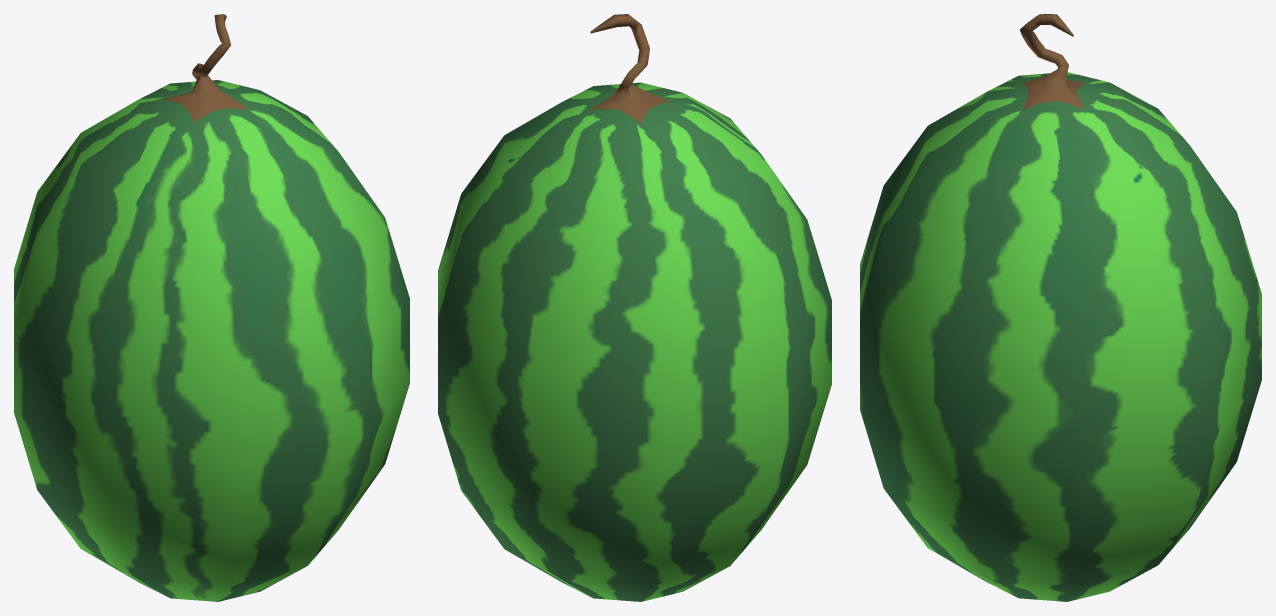
Rendered from Melon.obj.
3 renders of one model, left to right at view 1: azimuth 30°, elevation 25°; view 2: azimuth 150°, elevation 25°; view 3: azimuth 270°, elevation 25°, orthographic. The views are drawn at different scales.
Parts seen in each view (by area): view 1: MelonMesh_Sphere.001; view 2: MelonMesh_Sphere.001; view 3: MelonMesh_Sphere.001.
Part boxes in pixels (x1,y1,x2,y2): MelonMesh_Sphere.001: (14,14,409,601); MelonMesh_Sphere.001: (438,14,831,601); MelonMesh_Sphere.001: (860,14,1261,601).
Bounding box in the file's own units: 0.8854 × 1.39 × 0.8719.
